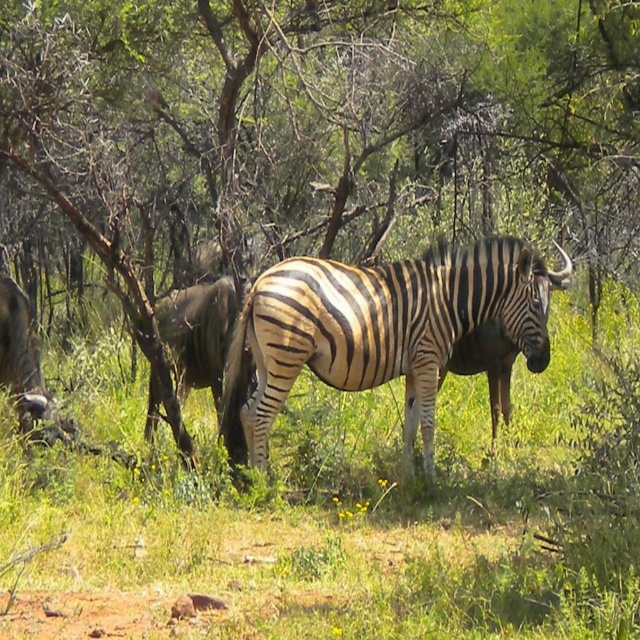Zebra: (210, 234, 573, 495)
